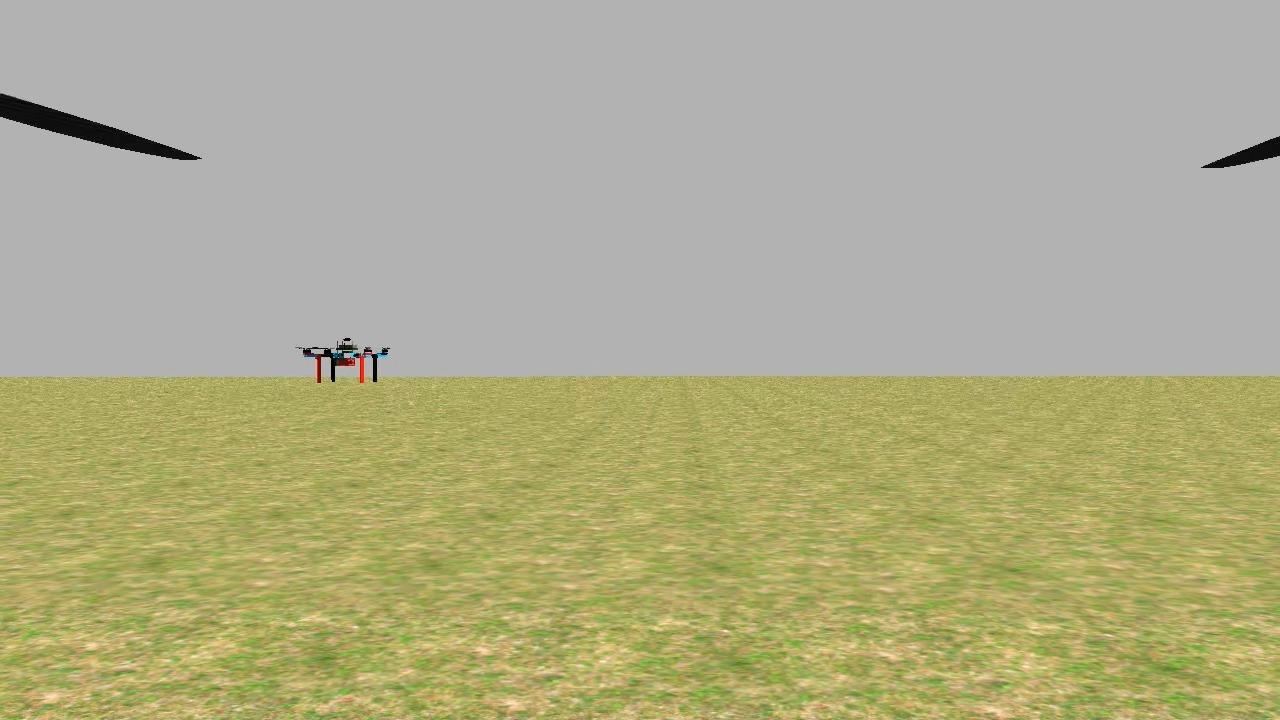UAV: (297, 334, 389, 395)
